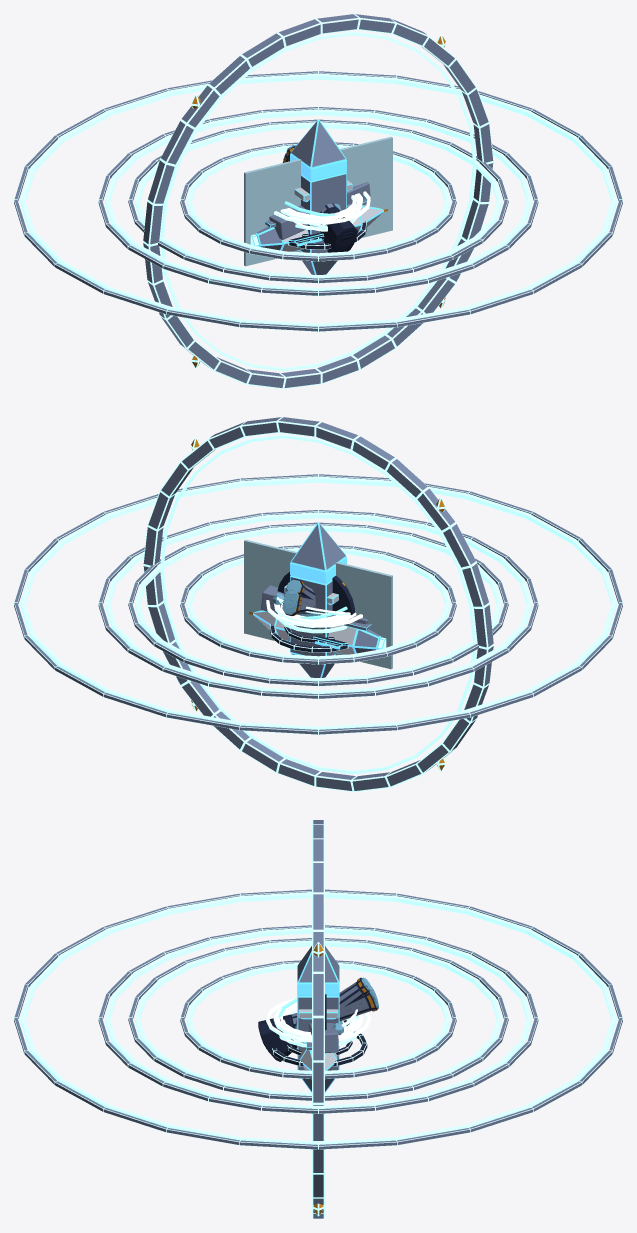
The model's file is sky_citadel_props.fbx.
3 renders of one model, top to bottom at view 1: azimuth 30°, elevation 25°; view 2: azimuth 150°, elevation 25°; view 3: azimuth 270°, elevation 25°, orthographic.
Parts seen in each view (by area): view 1: prop_hoop_a, prop_keel_ring_a, prop_keel_ring_c, prop_keel_ring_b, fix_forcefield_a, prop_keel_ring_d, prop_beacon_c, prop_skiff_a, prop_lintel_a, prop_telescope_d, prop_halo_b, prop_pylon_a; view 2: prop_hoop_a, prop_keel_ring_a, prop_keel_ring_c, prop_keel_ring_b, fix_forcefield_a, prop_keel_ring_d, prop_beacon_c, prop_skiff_a, prop_pylon_a, fix_vault_door_a; view 3: prop_keel_ring_a, prop_keel_ring_c, prop_keel_ring_b, prop_keel_ring_d, prop_hoop_a, prop_beacon_c, prop_pylon_a, prop_telescope_c, prop_telescope_d, prop_halo_b.
Boxes of the visible parts, x1,y1,x2,y2 form: prop_hoop_a: [143, 14, 493, 388]; prop_keel_ring_a: [14, 71, 622, 331]; prop_keel_ring_c: [98, 107, 538, 295]; prop_keel_ring_b: [128, 119, 508, 283]; fix_forcefield_a: [244, 136, 392, 266]; prop_keel_ring_d: [180, 142, 456, 261]; prop_beacon_c: [290, 119, 346, 274]; prop_skiff_a: [250, 199, 387, 251]; prop_lintel_a: [269, 182, 370, 239]; prop_telescope_d: [283, 161, 357, 247]; prop_halo_b: [274, 191, 370, 224]; prop_pylon_a: [288, 203, 366, 249]; prop_hoop_a: [143, 417, 493, 791]; prop_keel_ring_a: [14, 474, 622, 734]; prop_keel_ring_c: [98, 510, 538, 698]; prop_keel_ring_b: [128, 522, 508, 686]; fix_forcefield_a: [244, 539, 392, 669]; prop_keel_ring_d: [180, 545, 456, 664]; prop_beacon_c: [290, 522, 346, 677]; prop_skiff_a: [249, 610, 386, 654]; prop_pylon_a: [270, 613, 348, 652]; fix_vault_door_a: [277, 571, 354, 619]; prop_keel_ring_a: [14, 889, 622, 1149]; prop_keel_ring_c: [98, 925, 538, 1113]; prop_keel_ring_b: [128, 938, 508, 1100]; prop_keel_ring_d: [180, 960, 456, 1079]; prop_hoop_a: [312, 820, 324, 1218]; prop_beacon_c: [297, 946, 339, 1092]; prop_pylon_a: [272, 1018, 367, 1066]; prop_telescope_c: [269, 977, 372, 1061]; prop_telescope_d: [258, 993, 378, 1043]; prop_halo_b: [266, 998, 370, 1042].
Bounding box in the file's own units: 107 × 70.23 × 107.
